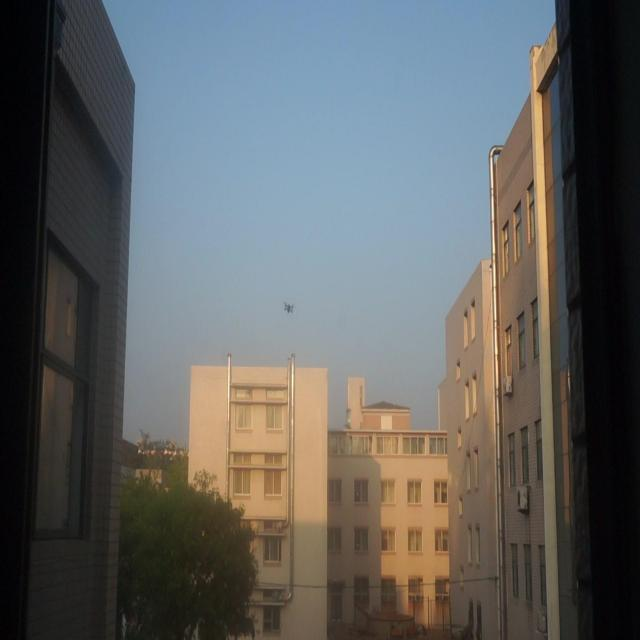UAV: (284, 302, 294, 314)
